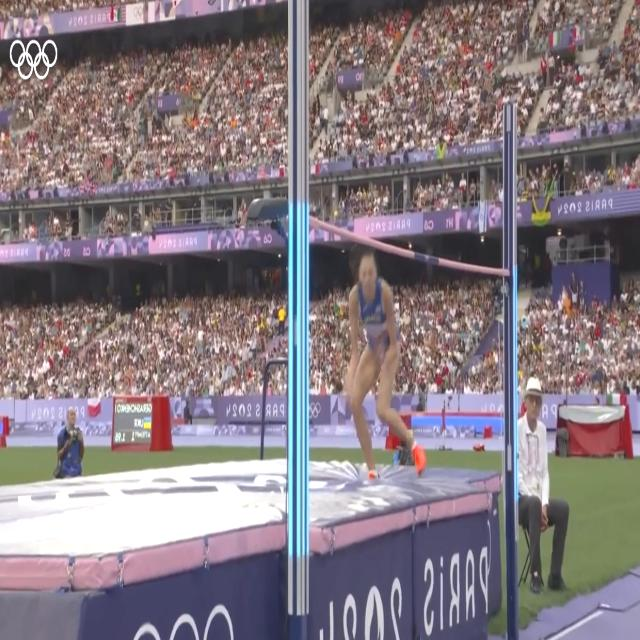land: (344, 257, 427, 483)
